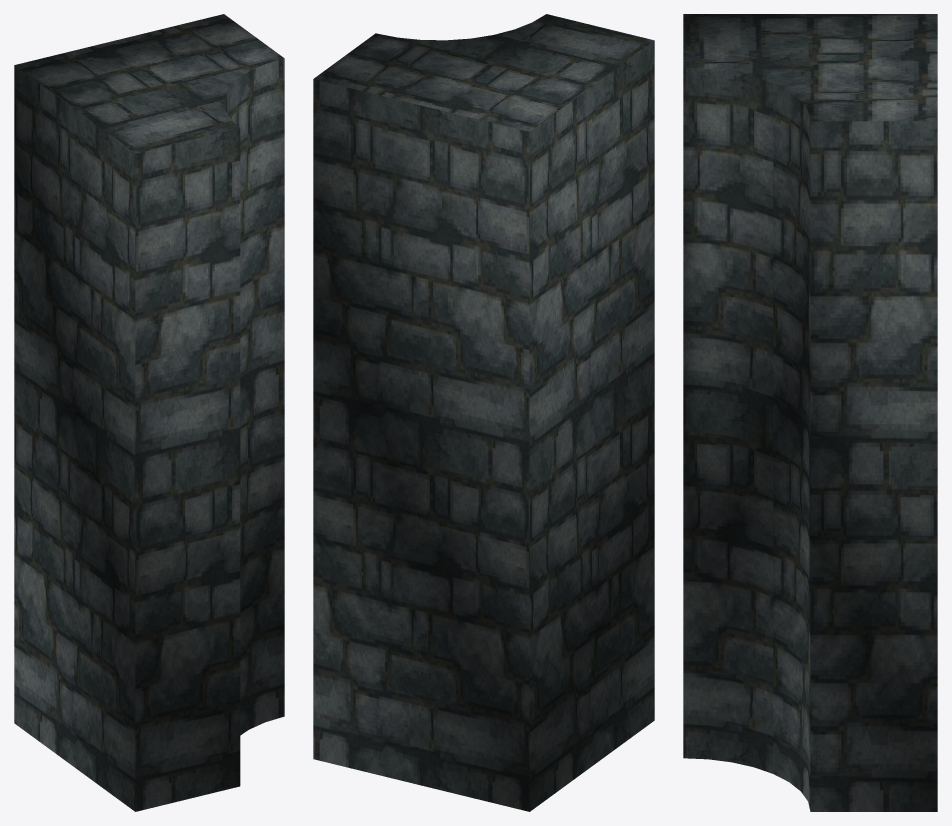
Rendered from dark stone connecter.glb.
The picture shows the model from 3 angles, left to right: view 1: azimuth 30°, elevation 25°; view 2: azimuth 150°, elevation 25°; view 3: azimuth 270°, elevation 25°; orthographic projection. The views are drawn at different scales.
Parts seen in each view (by area): view 1: Circle.011; view 2: Circle.011; view 3: Circle.011.
Boxes of the visible parts, x1,y1,x2,y2 form: Circle.011: [14, 14, 284, 811]; Circle.011: [313, 14, 654, 811]; Circle.011: [683, 14, 937, 811].
Size of the model in its own units: 0.9144 by 2.74 by 0.9144.
1 material, 1 textured.
